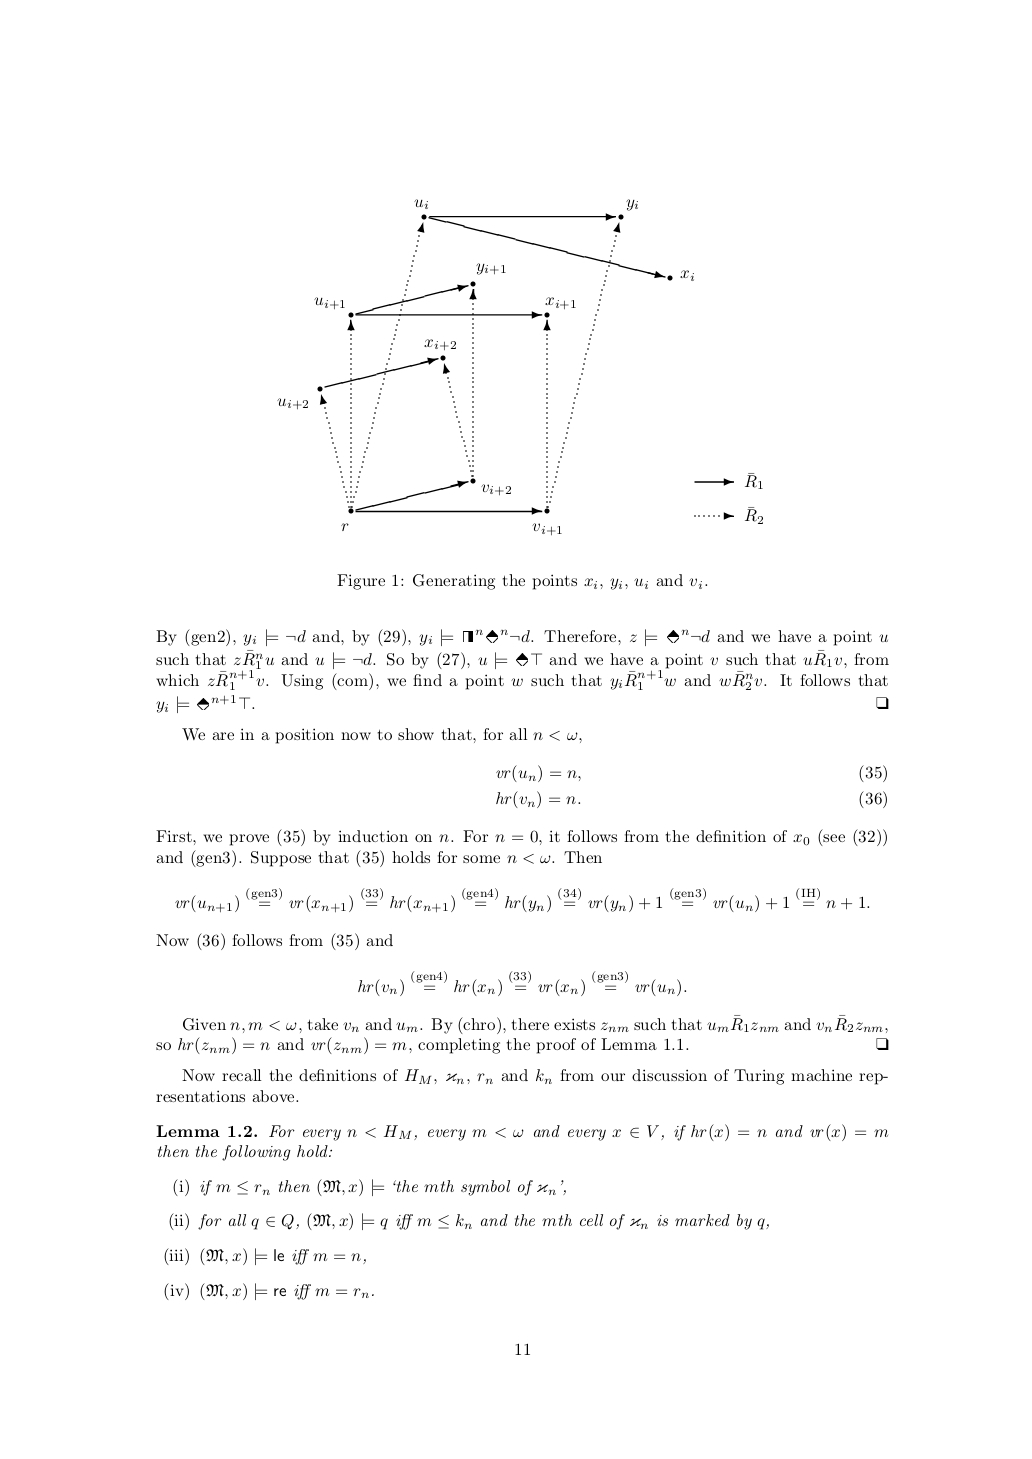figure: (277, 199, 762, 535)
formula: (175, 887, 869, 913), (359, 970, 686, 997), (496, 764, 886, 783), (496, 790, 886, 809), (164, 1282, 373, 1300), (164, 1247, 365, 1266)
